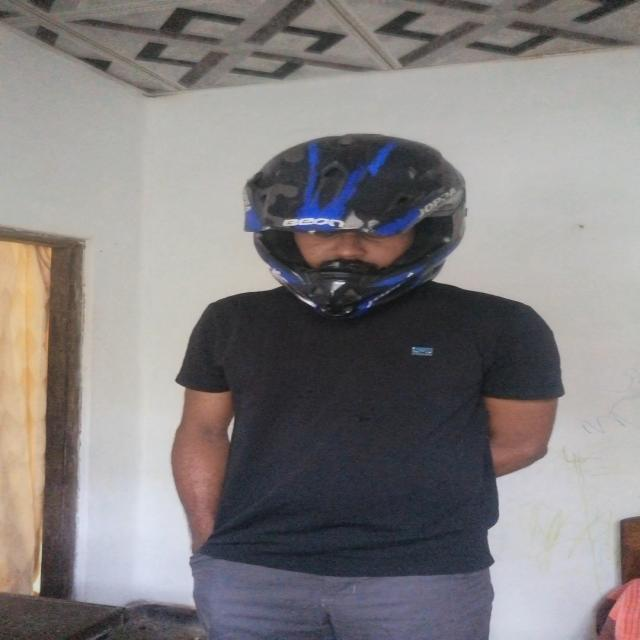Helmet_Wearer: (229, 129, 490, 319)
Person: (203, 135, 556, 640)
